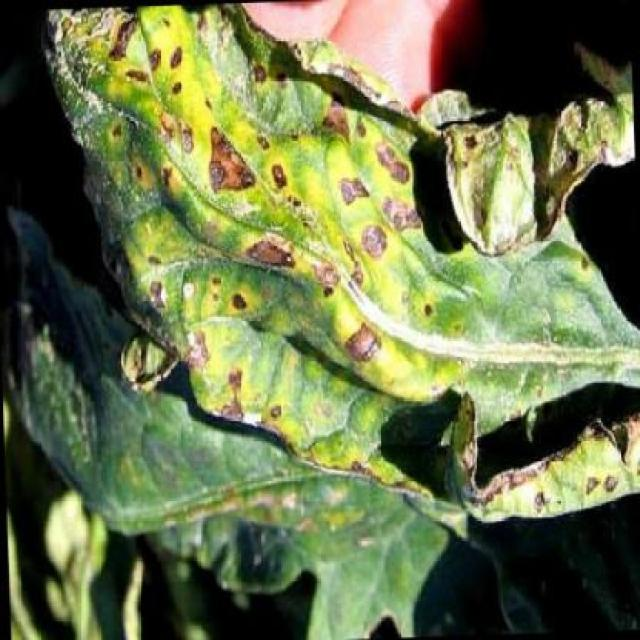Septoria leaf spot: (28, 1, 639, 576)
